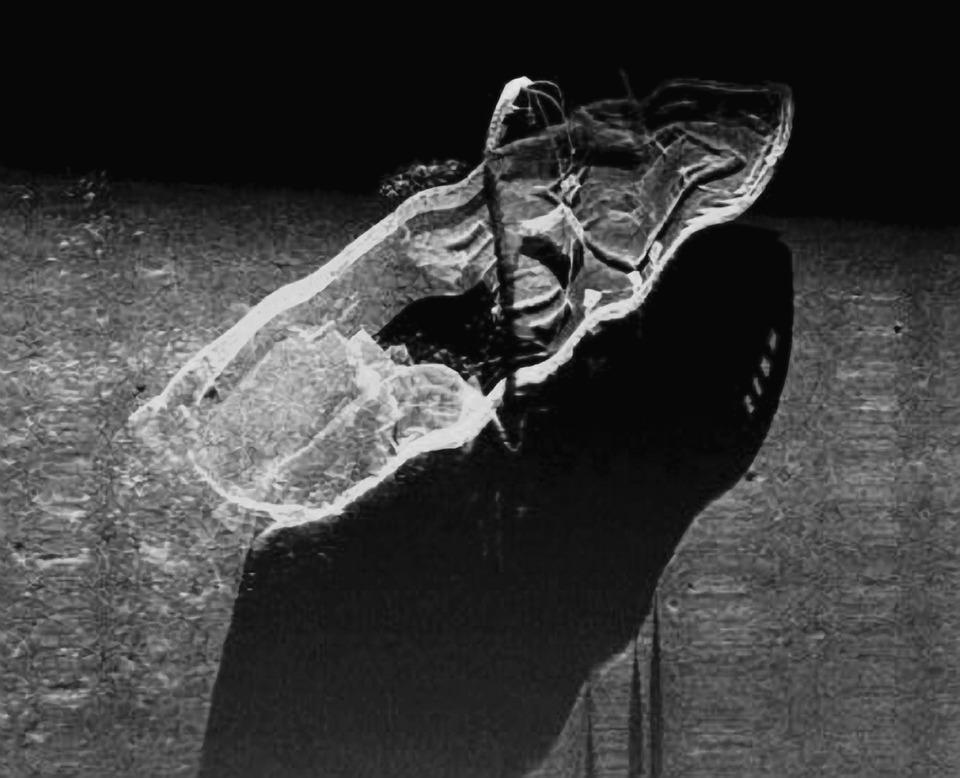ship: (126, 66, 795, 551)
